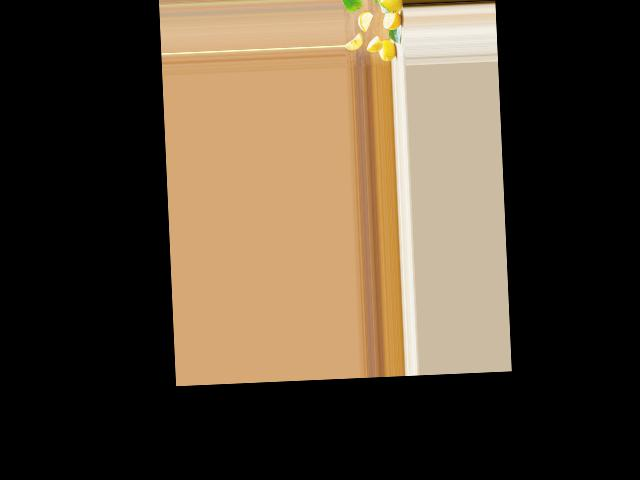lemon: (376, 38, 396, 64)
